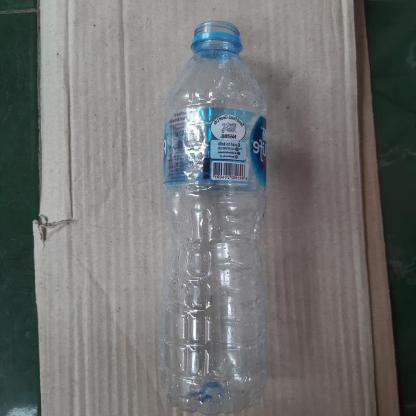Plastic Bottle: (156, 18, 268, 416)
